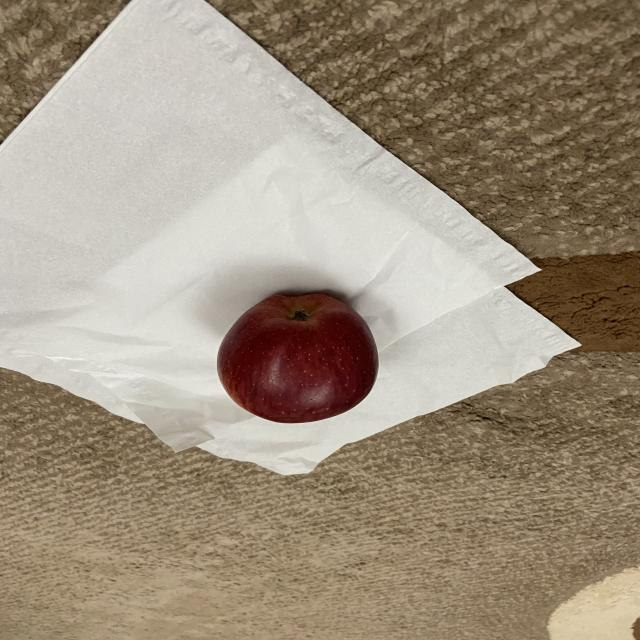apple: (210, 284, 381, 428)
